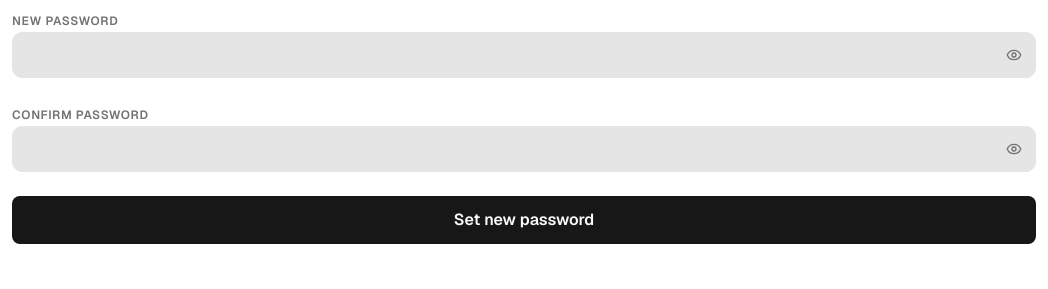
it: ResetPasswordForm › keeps the form and says so when the connection fails
Type "A-brand-new-one-2" into the password field with test id "admin-reset-password" at point(524, 55), box [12,32,1036,78]
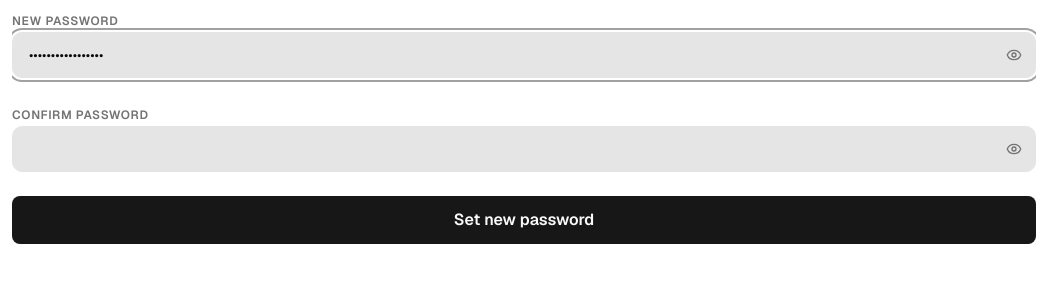
Type "A-brand-new-one-2" into the password field with test id "admin-reset-confirm" at point(524, 149), box [12,126,1036,172]
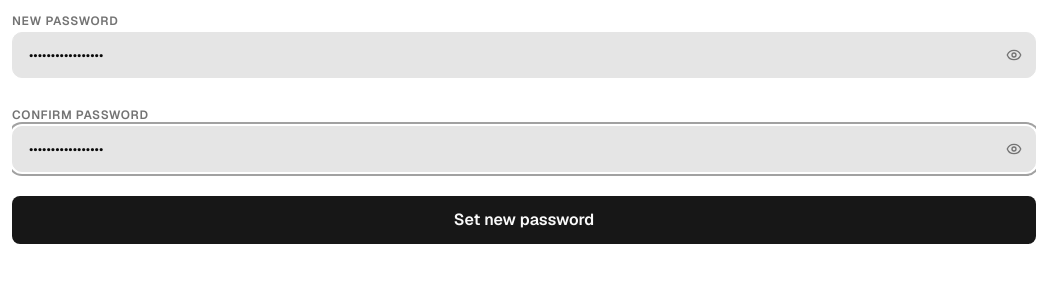
Click the button with test id "admin-reset-submit" at point(524, 220), box [12,196,1036,244]
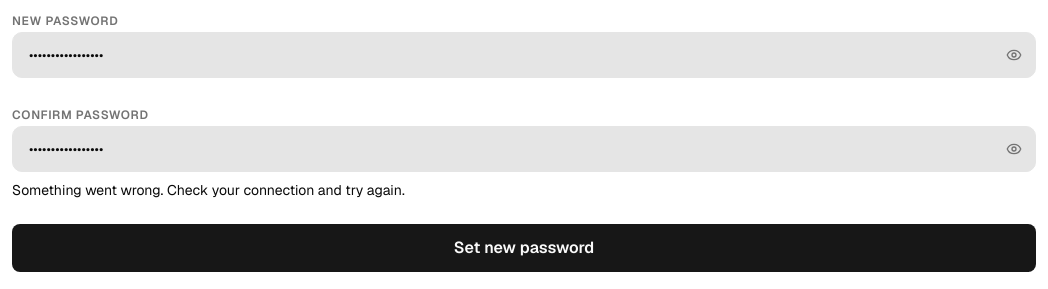
Expected: the button with test id "admin-reset-submit" is shown, [12,224,1036,272]
Now the message with test id "admin-reset-error" shows "Check your connection", box [12,181,405,199]
